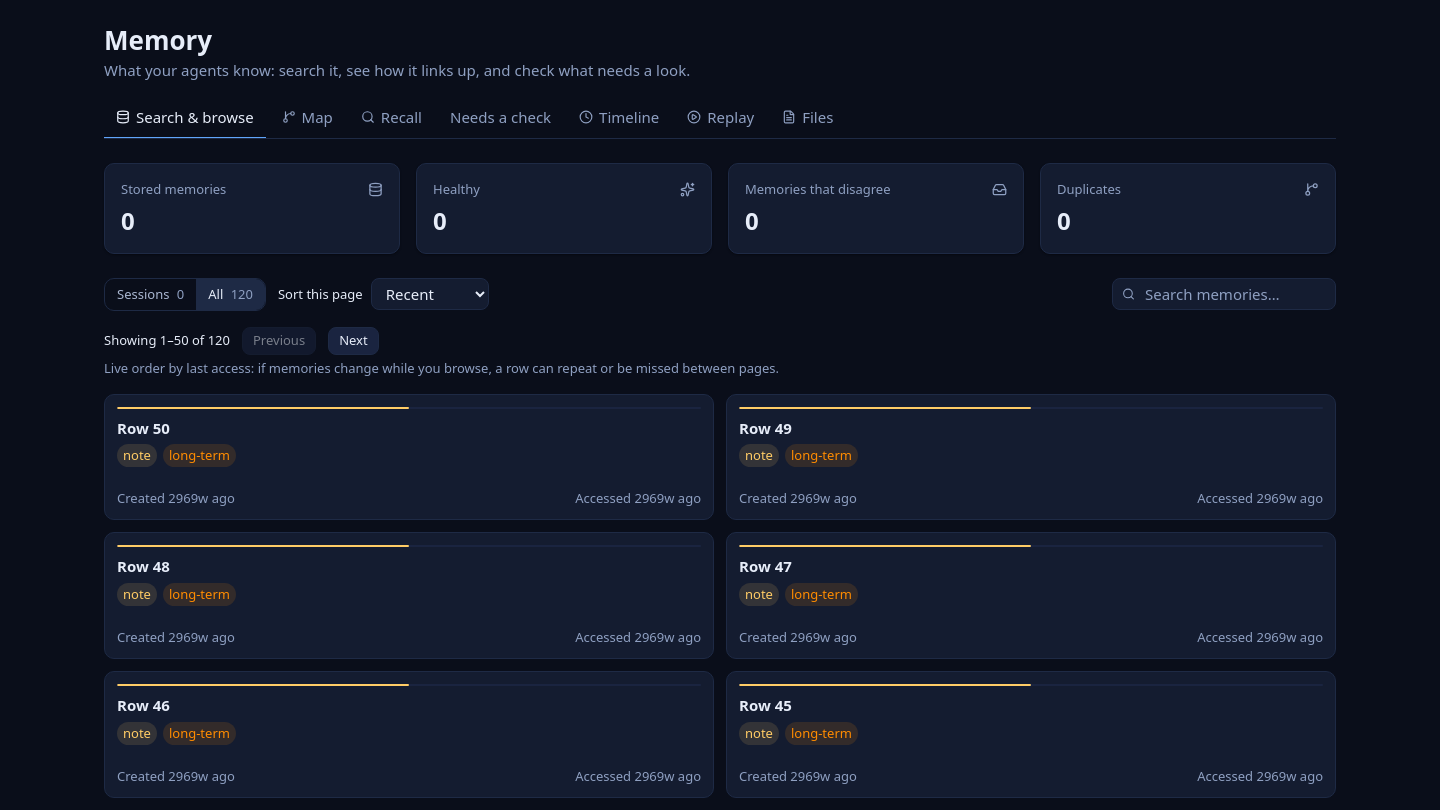
Test: Library on the /memory route › /memory pages the Library 50 rows at a time with focusable step buttons
Expected: the heading "Memory" is shown, [104,22,212,58]
Expected: the message reads "Showing 1–50 of 120", [104,331,230,349]
Click the button "Next".
click(353, 341)  # box [328,327,379,355]
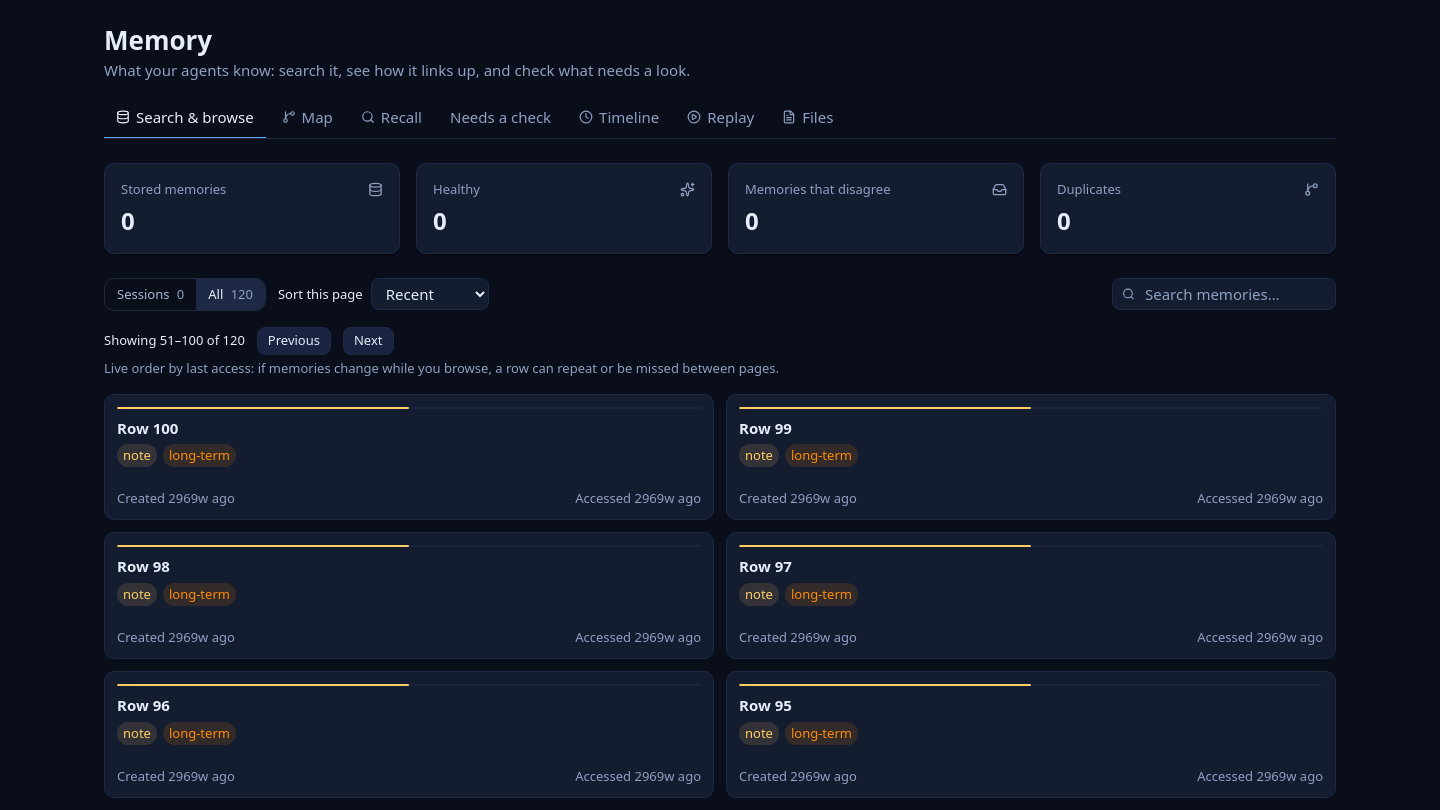
Result: the text "Showing 51–100 of 120" is shown at [104,331,245,350]
Click the button "Next".
click(368, 341)  # box [343,327,394,355]
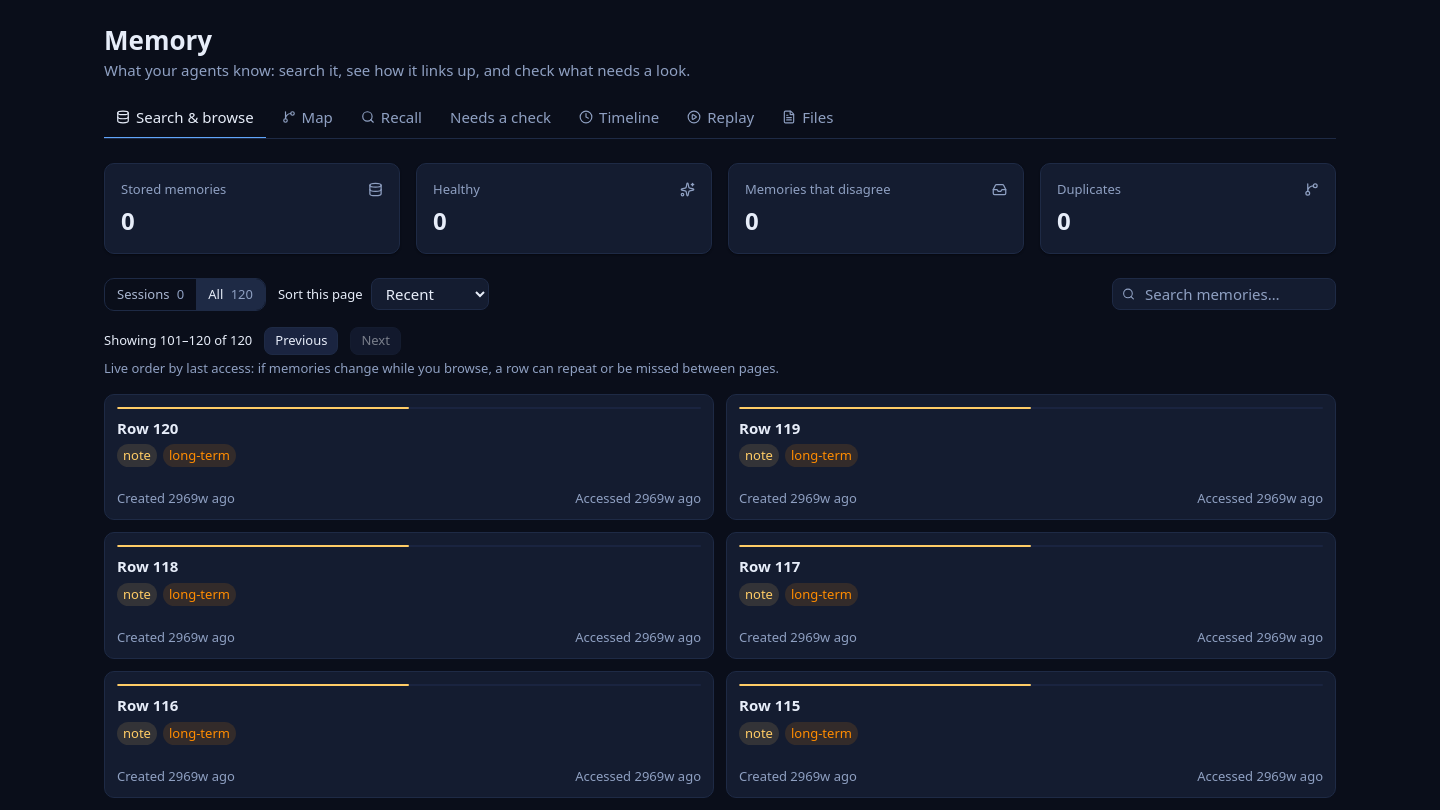
Result: the text "Showing 101–120 of 120" is shown at [104,331,252,350]
Click the button "Previous".
click(301, 341)  # box [264,327,338,355]
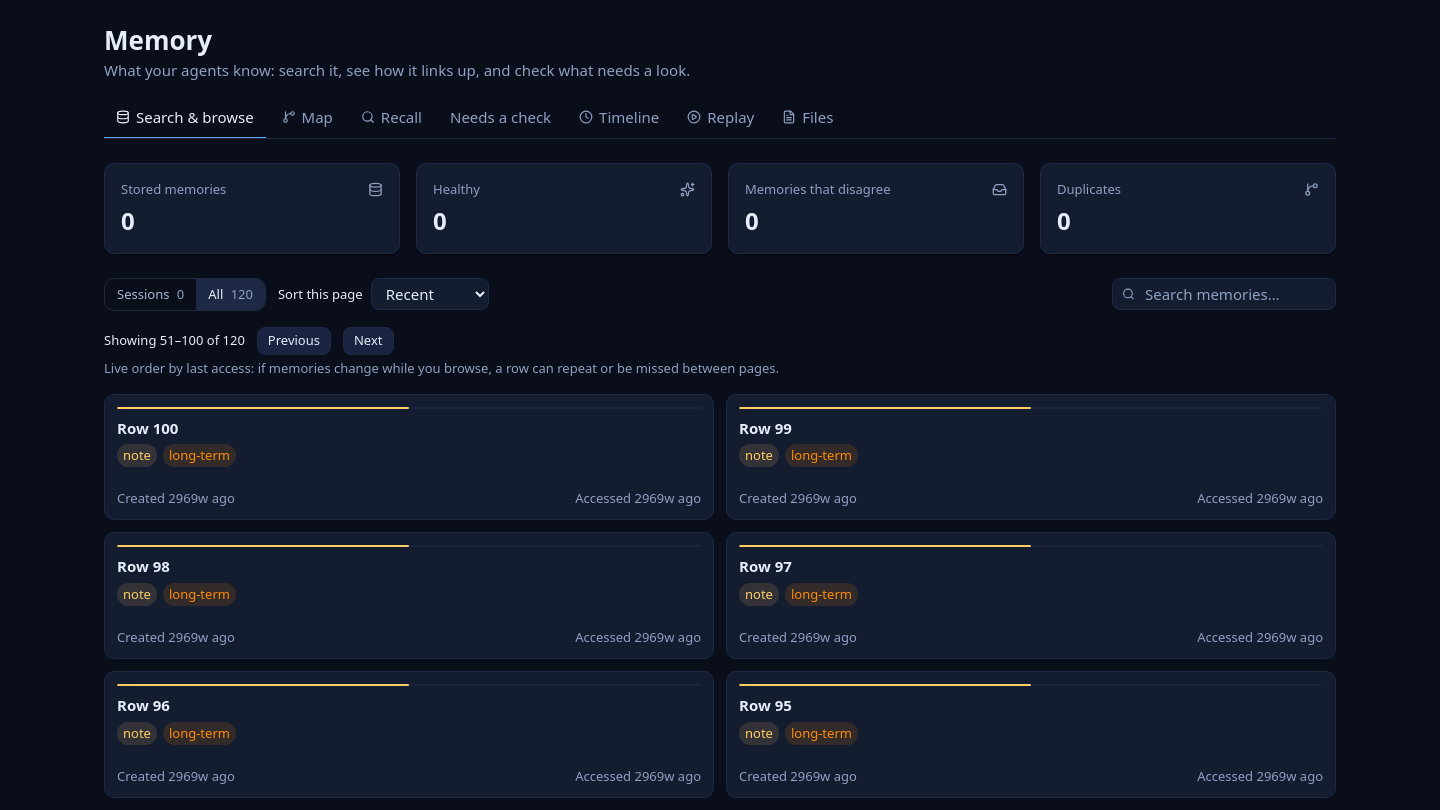
Result: the text "Showing 51–100 of 120" is shown at [104,331,245,350]
